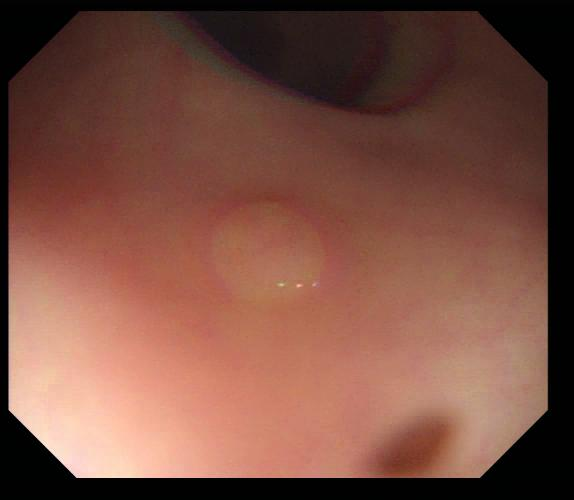polyp: (208, 197, 333, 312)
